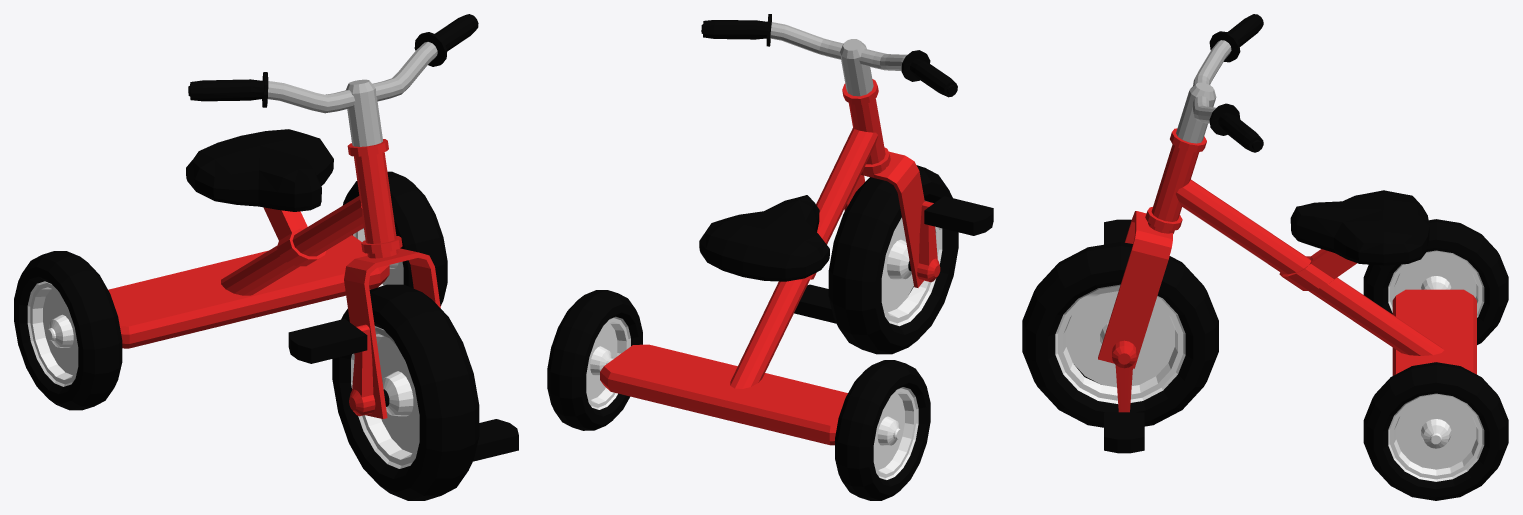
Rendered from fj-aQ4hAbNr.glb.
3 renders of one model, left to right at view 1: azimuth 30°, elevation 25°; view 2: azimuth 150°, elevation 25°; view 3: azimuth 270°, elevation 25°, orthographic. The views are drawn at different scales.
Parts seen in each view (by area): view 1: Tricycle; view 2: Tricycle; view 3: Tricycle.
Boxes of the visible parts, <box> form: Tricycle: <box>14,14,518,500</box>; Tricycle: <box>547,14,993,500</box>; Tricycle: <box>1022,14,1508,500</box>.
Bounding box in the file's own units: 0.9589 × 1 × 1.23.
1 material, 1 textured.
